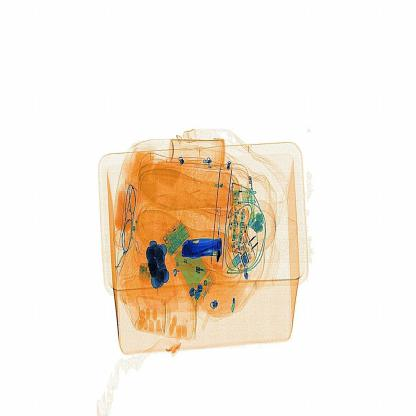knife: (181, 232, 230, 260)
